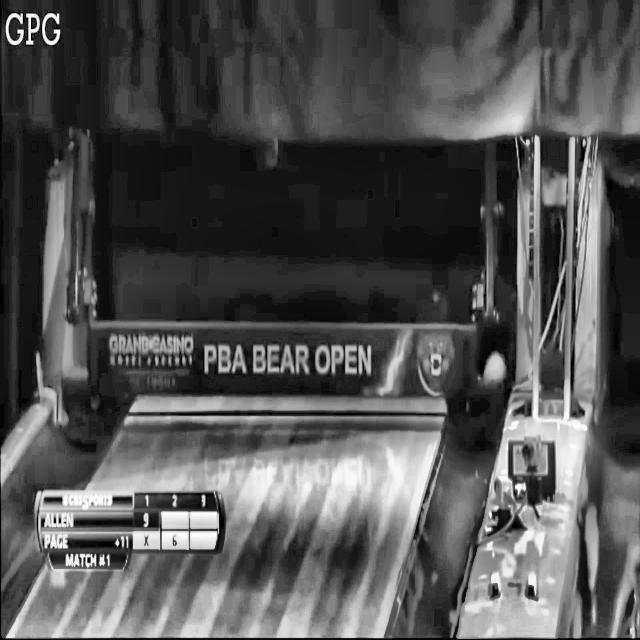sweep board: (89, 321, 477, 397)
